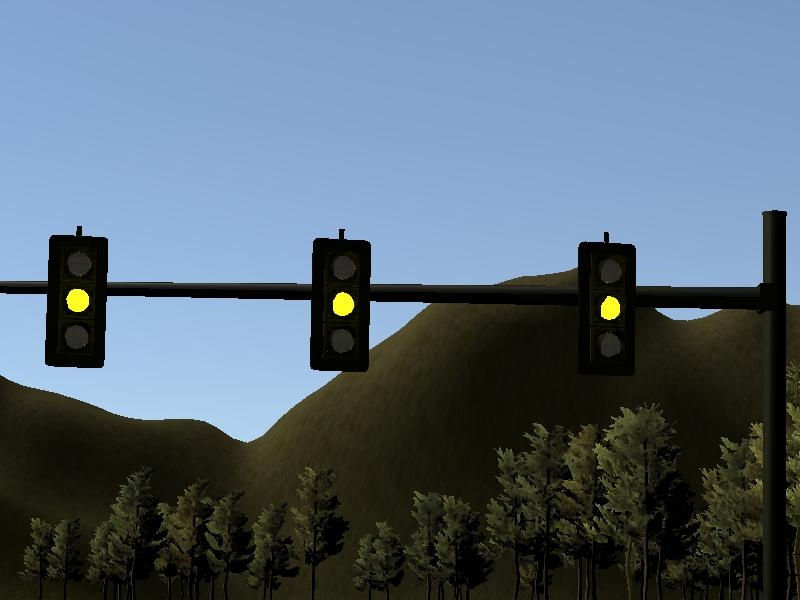yellow: (298, 224, 376, 379), (39, 222, 114, 379), (571, 224, 643, 382)
